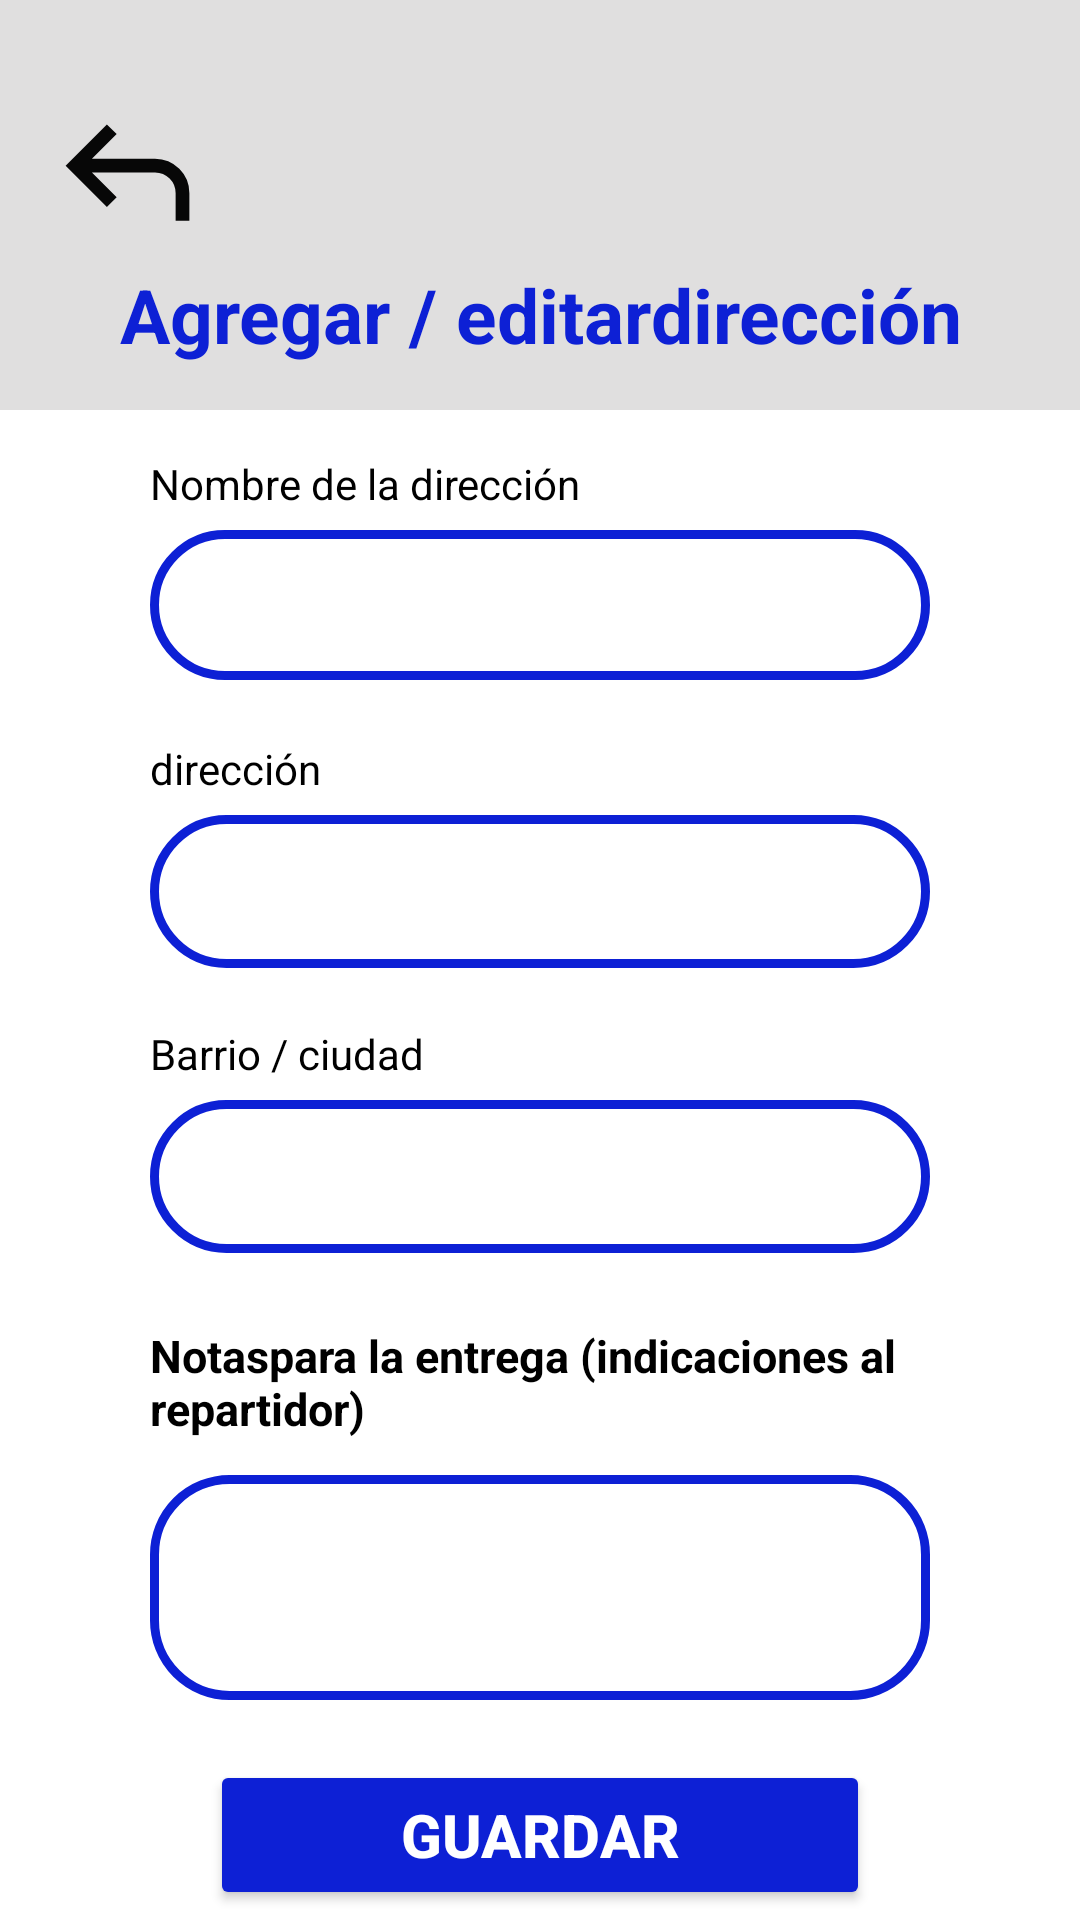

Named icons in this screenshot (1080px×1920px) and their bounding boxes, [x1,y1,x2,y2]:
regresar: [65,124,190,221]
